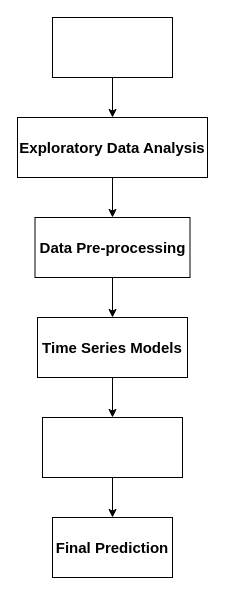
This 225x595 diagram has some shape labels left out. The centre of each missing label's shape, as x and y in pixels:
"Machine Learning Regression Models" belongs at point 112,447.
"Prepare dataset" belongs at point 112,47.
